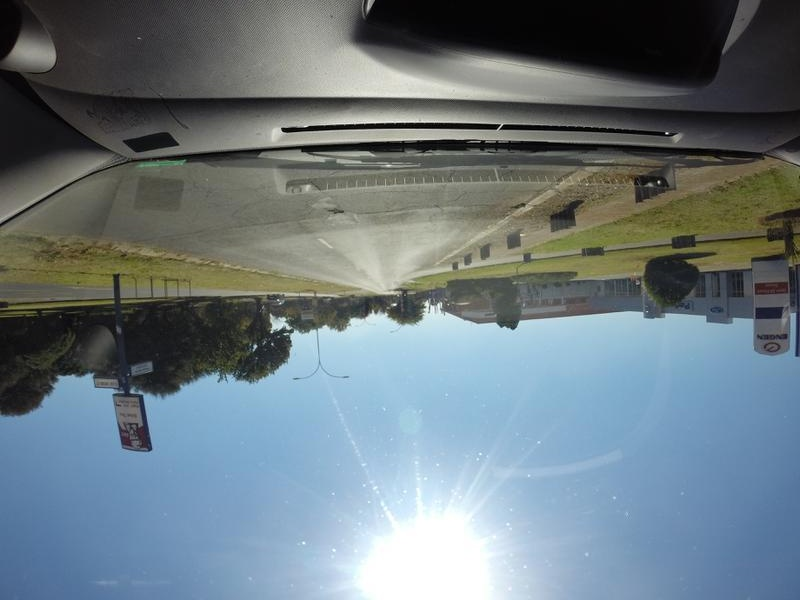pothole: (488, 196, 530, 213), (314, 202, 346, 218)
